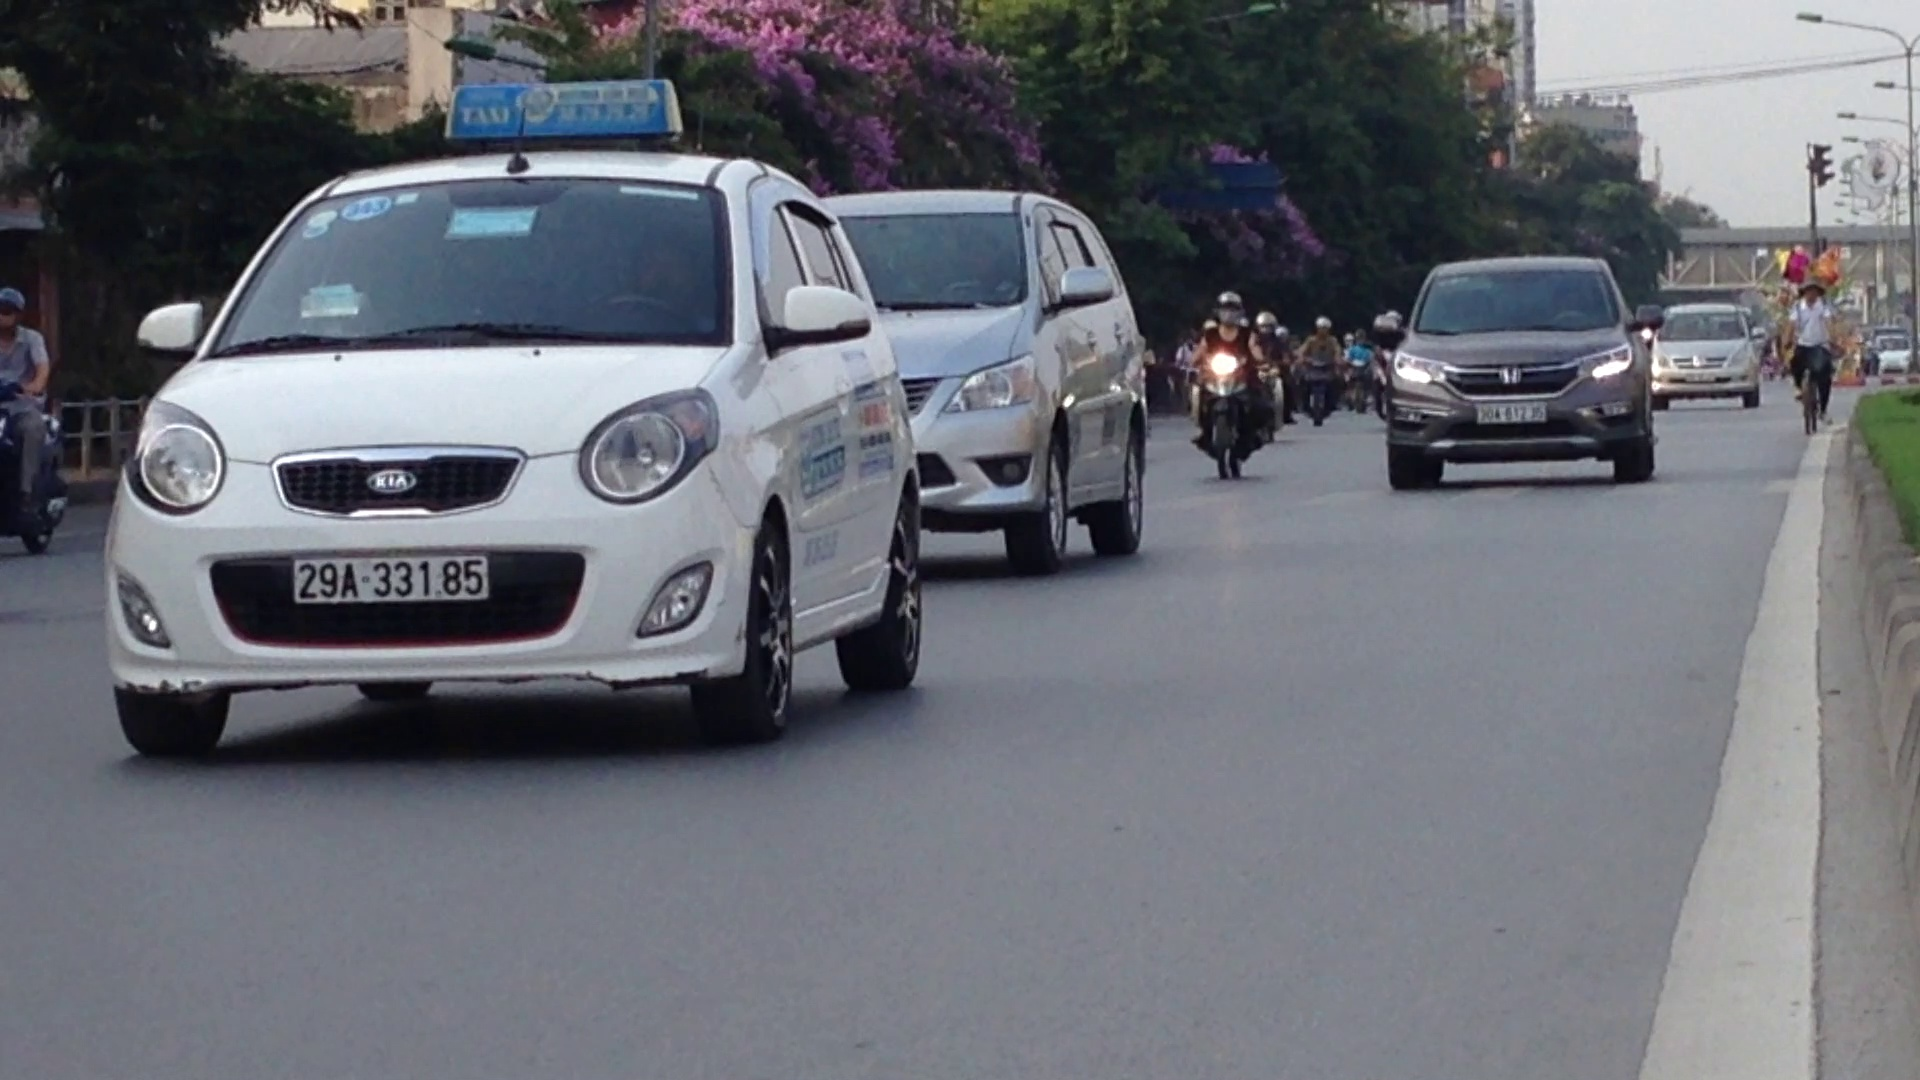person: (286, 554, 493, 603), (1471, 398, 1552, 426)
